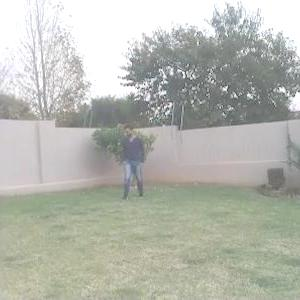follow: (121, 118, 146, 202)
